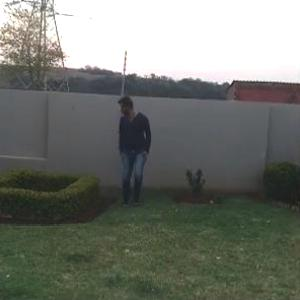follow: (117, 90, 154, 215)
